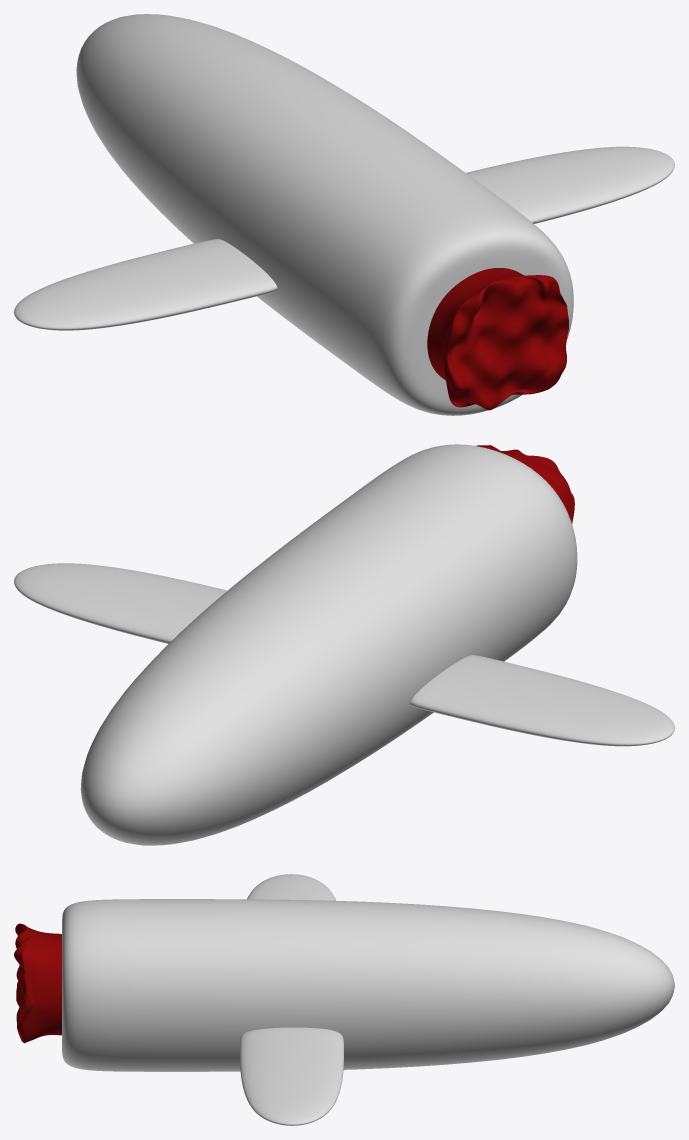
The model's file is ship.glb.
3 views of the same model, one above another, from view 1: azimuth 30°, elevation 25°; view 2: azimuth 150°, elevation 25°; view 3: azimuth 270°, elevation 25° (orthographic). The views are drawn at different scales.
Visible parts, largest first — view 1: Cube, Cube.003, Cube.002, Cube.001; view 2: Cube, Cube.002, Cube.001, Cube.003; view 3: Cube, Cube.001, Cube.003, Cube.002.
Part boxes in pixels (box(x1,y1,x2,y2)): Cube: box(76, 14, 573, 415); Cube.003: box(427, 268, 568, 410); Cube.002: box(14, 239, 277, 330); Cube.001: box(466, 146, 674, 223); Cube: box(80, 444, 577, 845); Cube.002: box(410, 655, 674, 746); Cube.001: box(14, 563, 227, 643); Cube.003: box(476, 445, 574, 523); Cube: box(62, 899, 674, 1071); Cube.001: box(240, 1027, 343, 1125); Cube.003: box(14, 923, 61, 1043); Cube.002: box(247, 874, 336, 900).
Bounding box in the file's own units: 3.73 × 1.04 × 4.11.
